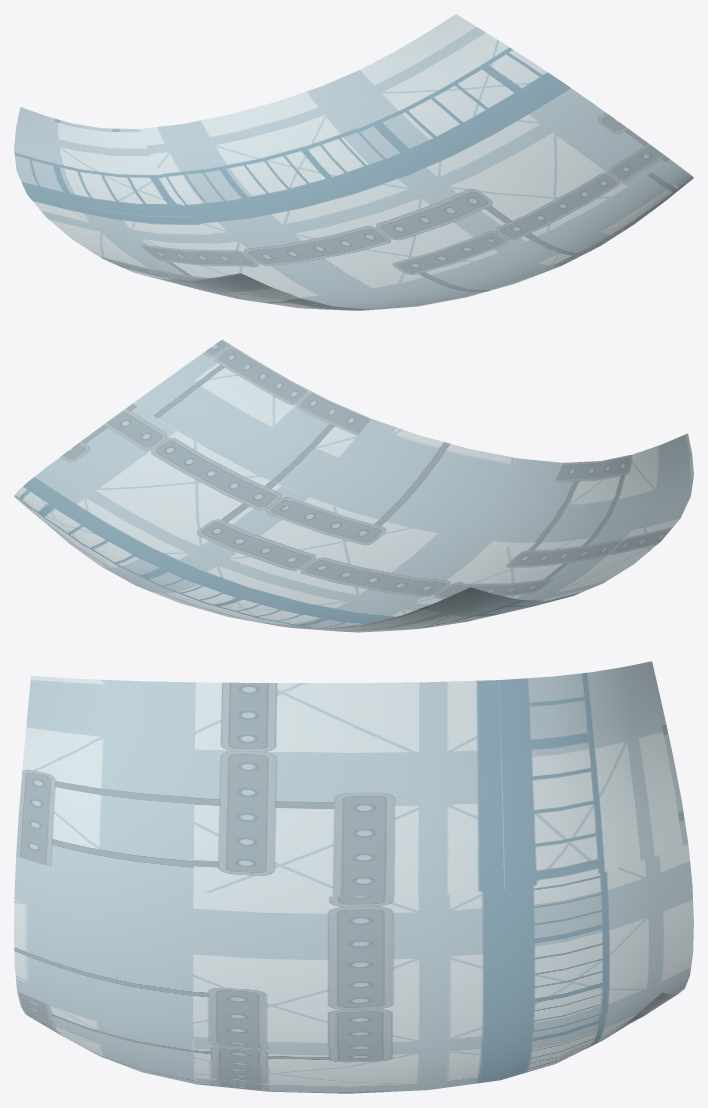
The model's file is back.fbx.
3 renders of one model, top to bottom at view 1: azimuth 30°, elevation 25°; view 2: azimuth 150°, elevation 25°; view 3: azimuth 270°, elevation 25°, orthographic. The views are drawn at different scales.
Visible parts, largest first — view 1: pPlane5; view 2: pPlane5; view 3: pPlane5.
Part boxes in pixels (x1,y1,x2,y2): pPlane5: (14, 14, 693, 310); pPlane5: (14, 339, 693, 632); pPlane5: (14, 661, 693, 1093).
Bounding box in the file's own units: 2.33 × 0.475 × 1.74.
Materials: 1 (1 with a texture image).
